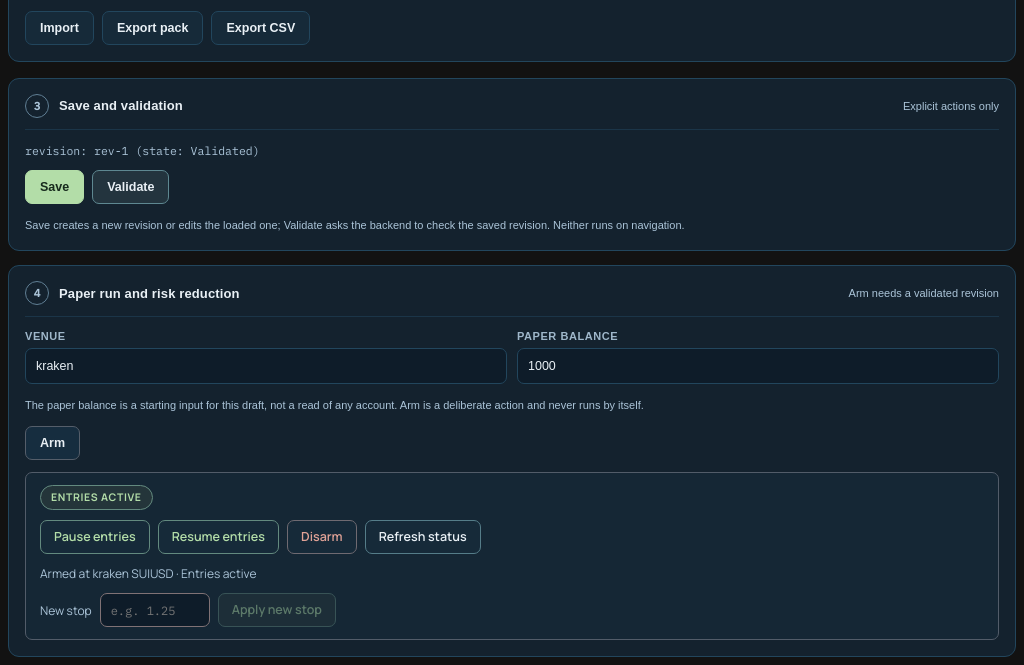
Test: EditorInlineStopControl post-Arm automatic status refresh › (e) the persisted stopAt from the disarm + re-arm slice re-displays after the post-Arm read returns armed=true
This screenshot has width=1024, height=665.
(page scrolled)
Expected: the button "Disarm" is enabled, [287, 520, 357, 554]
Type "6.25" into the field with test id "editor-inline-stop-new-stop" at (155, 610), box [100, 593, 210, 627]
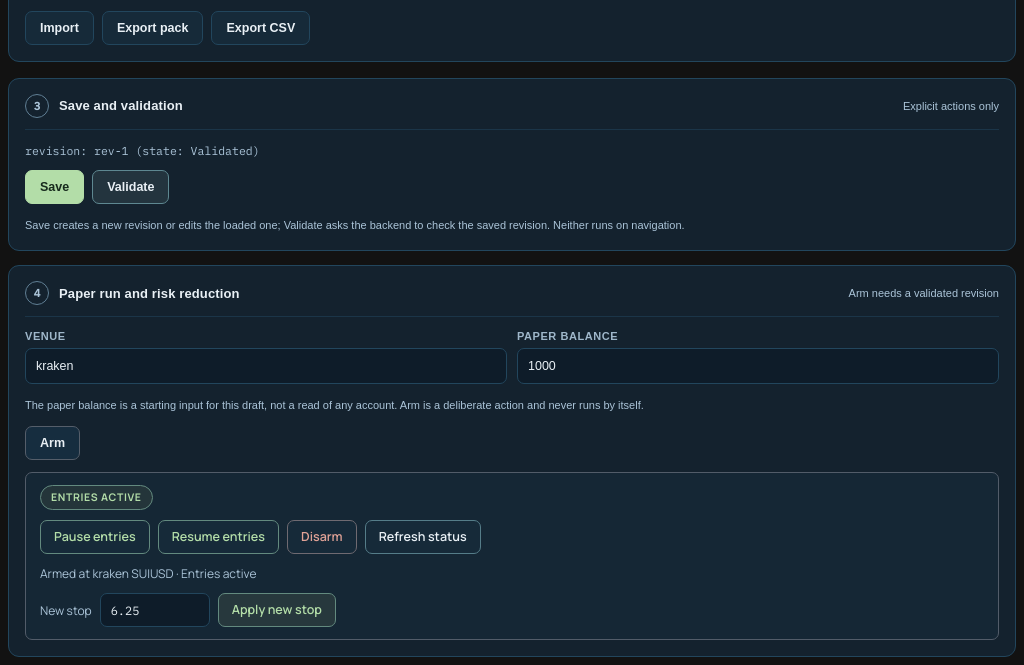
Click the button with test id "editor-inline-stop-apply" at (277, 610), box [218, 593, 336, 627]
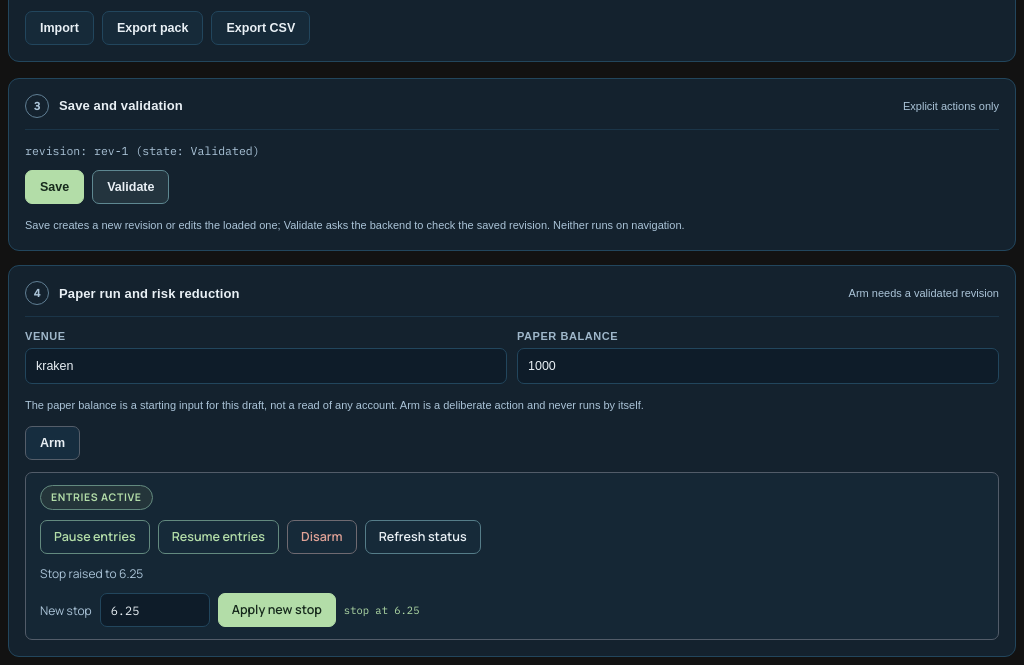
Expected: the text with test id "editor-inline-stop-at" reads "stop at 6.25", [344, 603, 420, 617]
// Disarm: the remembered stop leaves view but survives in memory.
Click the button "Disarm" at (322, 537), box [287, 520, 357, 554]
(page scrolled)
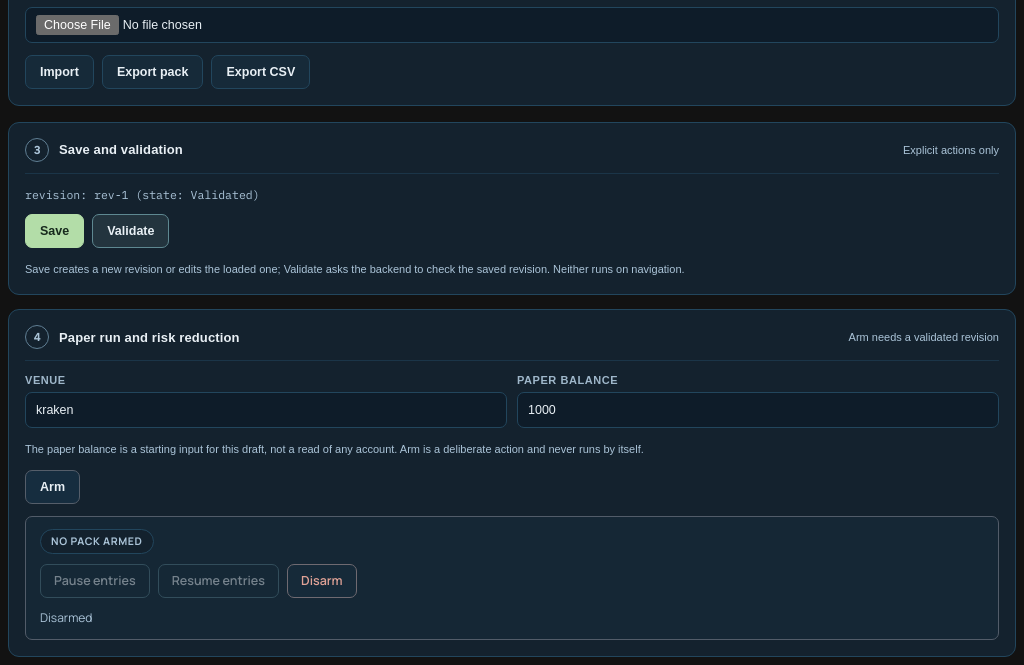
Expected: the text with test id "editor-inline-stop-empty" reads "No pack armed", [51, 534, 143, 548]
Expected: the text with test id "editor-inline-stop-at" is gone
Click the button "Arm" at (52, 487), box [25, 470, 80, 504]
(page scrolled)
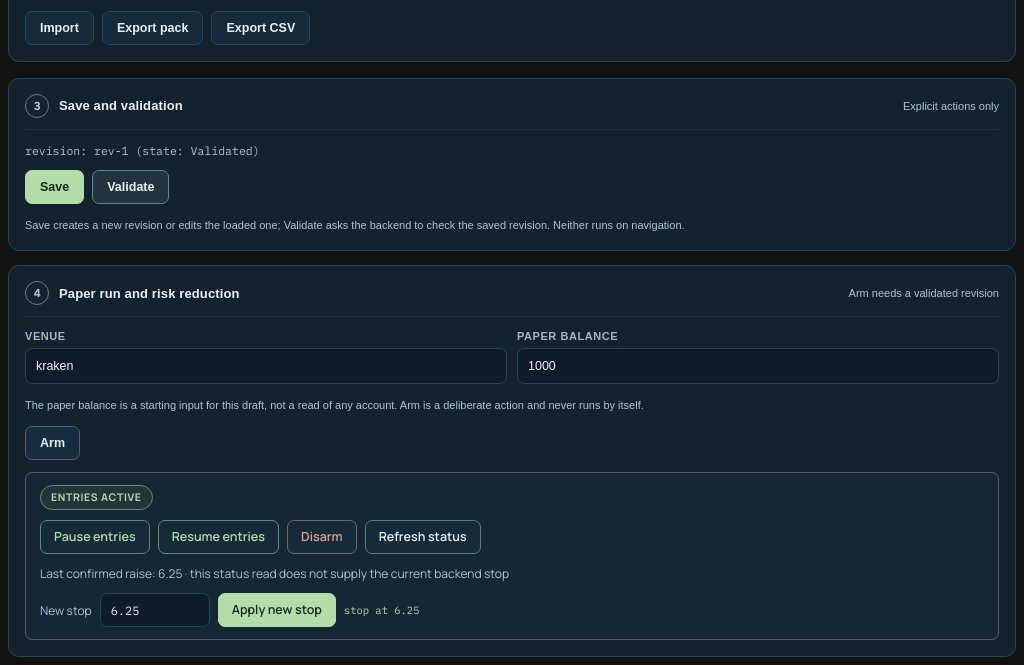
Expected: the text with test id "editor-inline-stop-at" reads "stop at 6.25", [344, 603, 420, 617]
Expected: the button "Disarm" is enabled, [287, 520, 357, 554]
